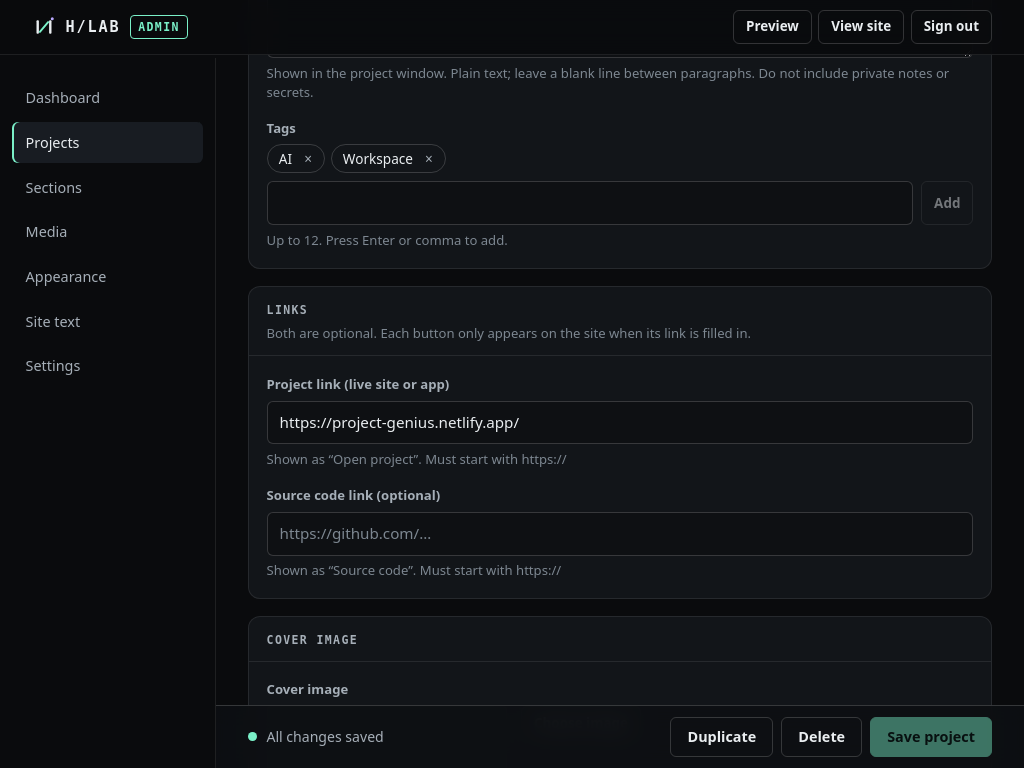
Test: admin project editor: images and links › validates Project link = http://insecure.example and saves nothing
The width and height of the screenshot is (1024, 768).
(page scrolled)
Replace the text in the field labelled "Project link (live site or app)" with "http://insecure.example": (620, 422) [267,400,973,444]
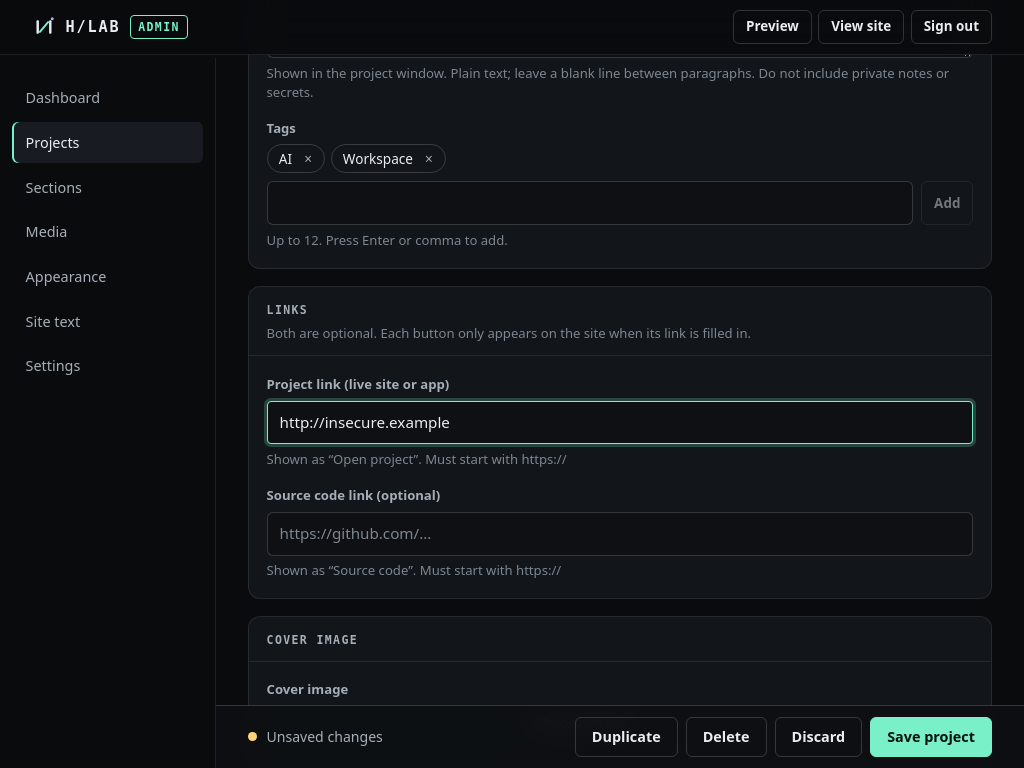
Click the button "Save project": (931, 737) [870,717,992,757]
(page scrolled)
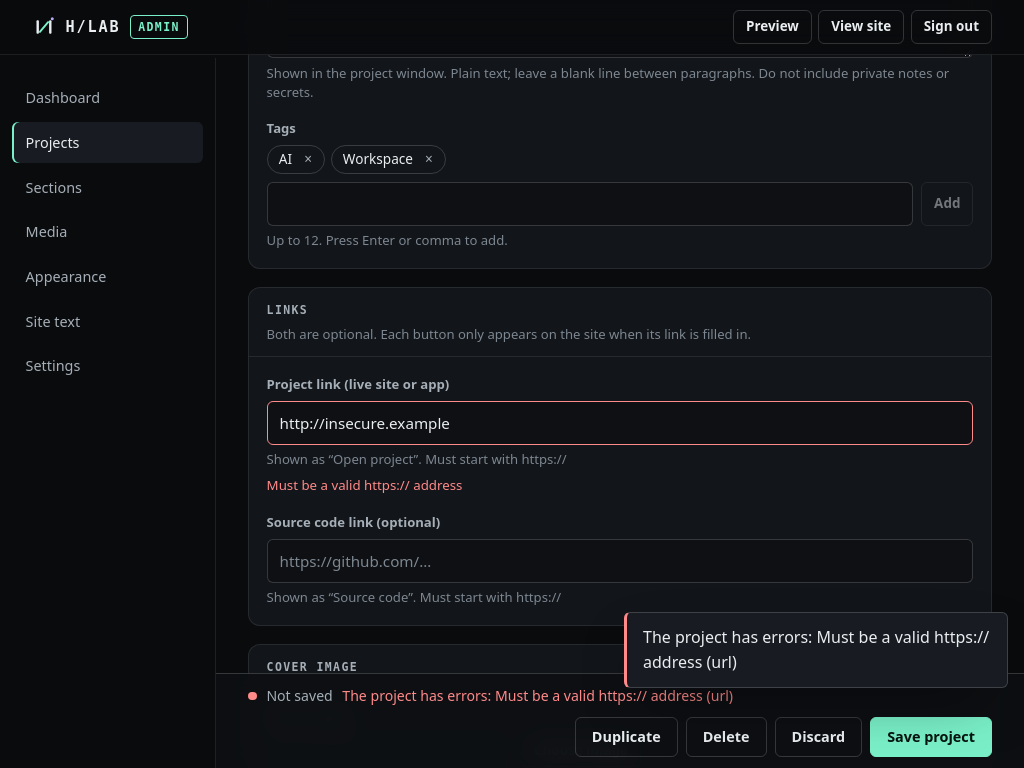
Expected: the text "Must be a valid https:// address" is shown, [267,476,462,494]
